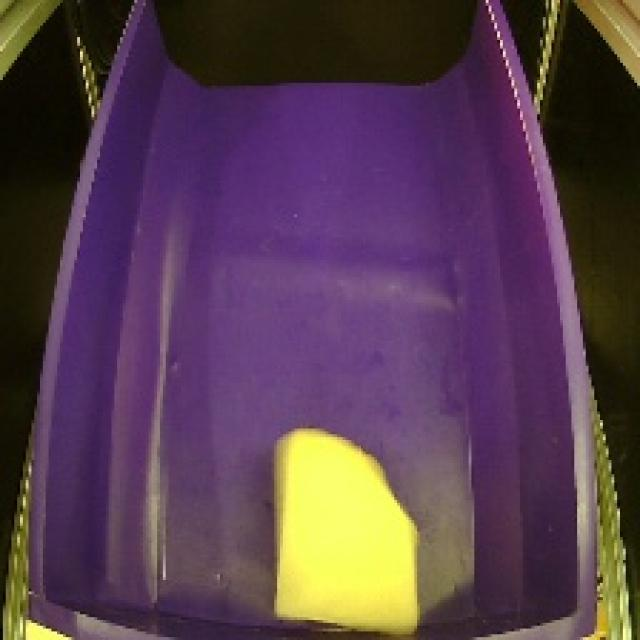potato: (257, 416, 428, 640)
